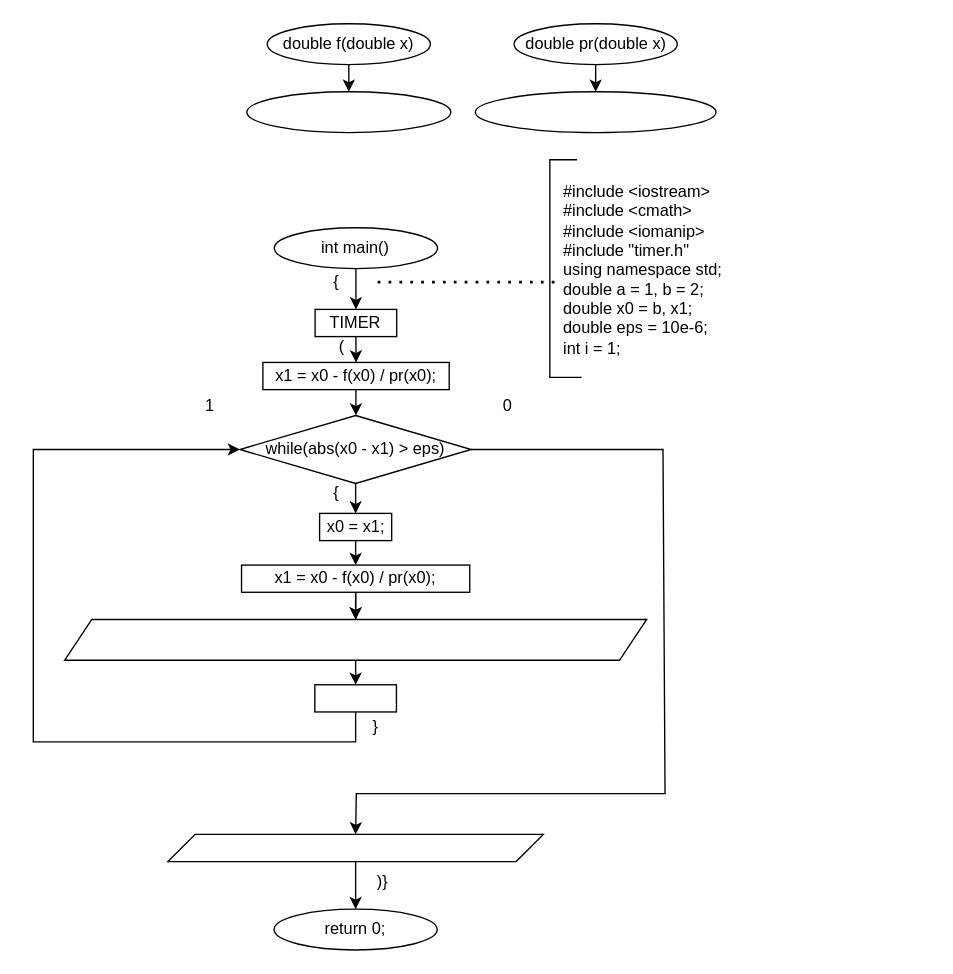
The diagram is 953 pixels wide and 974 high, and some of its shapes have lost their labels. Each missing label, with the box of its shape:
cout << fixed << setprecision(4) << "Step: " << i << " Value: " << x1 << '\n';: (63, 618, 647, 660)
cout << fixed << setprecision(4) << x1 << '\n';: (167, 833, 543, 862)
i++;: (313, 683, 396, 712)
return 1 - cos(1 / x) / (x * x);: (474, 90, 716, 133)
return x - 2 + sin(1 / x);: (245, 90, 451, 133)
